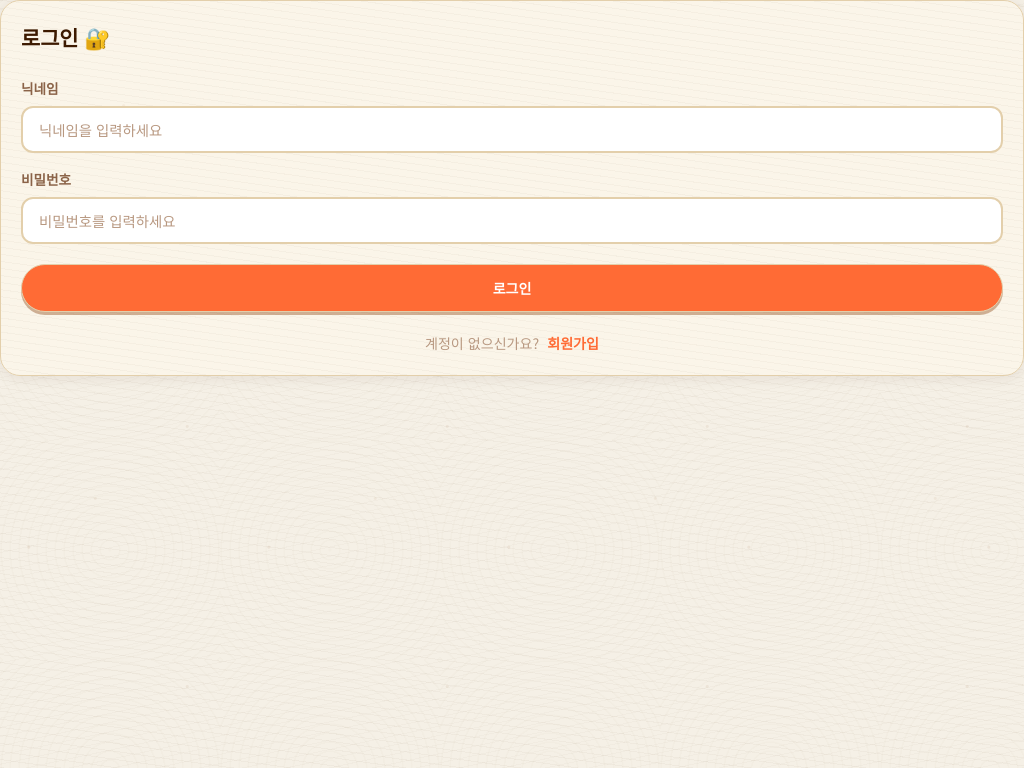
it: 로그인 페이지 › 로그인 중에는 버튼이 '로그인 중...' 상태가 된다
Type "testuser" into the field with placeholder "닉네임을 입력하세요" at (512, 130), box x1=21 y1=106 x2=1003 y2=153
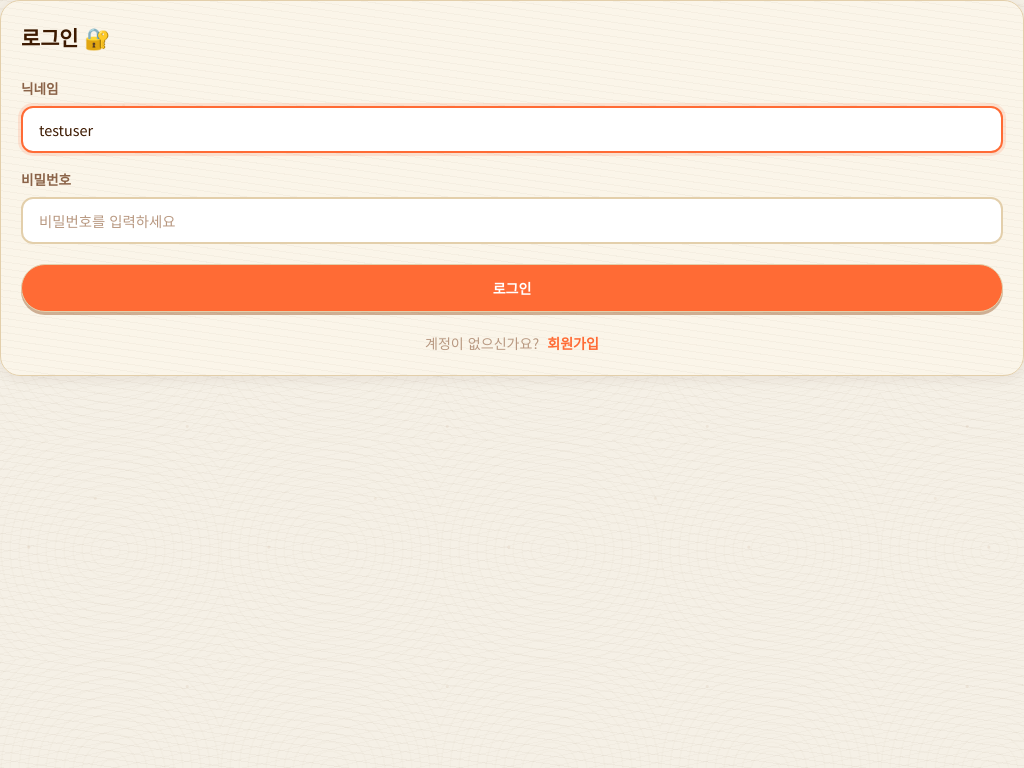
Type "password123" into the password field with placeholder "비밀번호를 입력하세요" at (512, 220), box x1=21 y1=197 x2=1003 y2=244
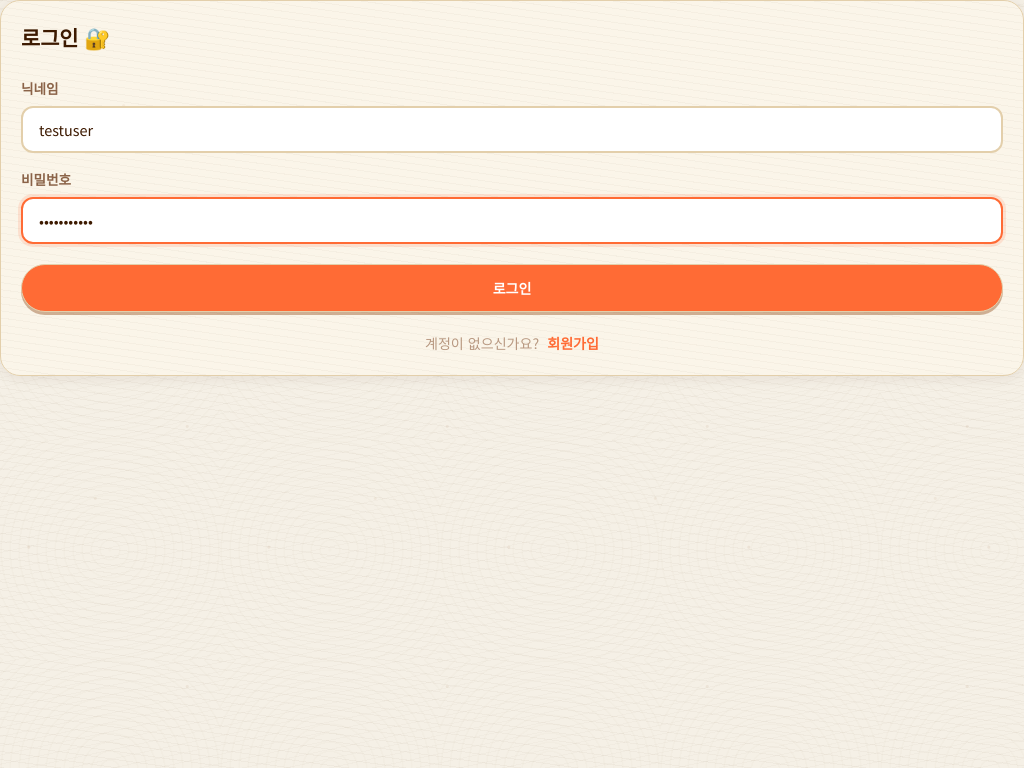
Click the button "로그인" at (512, 288), box x1=21 y1=264 x2=1003 y2=312
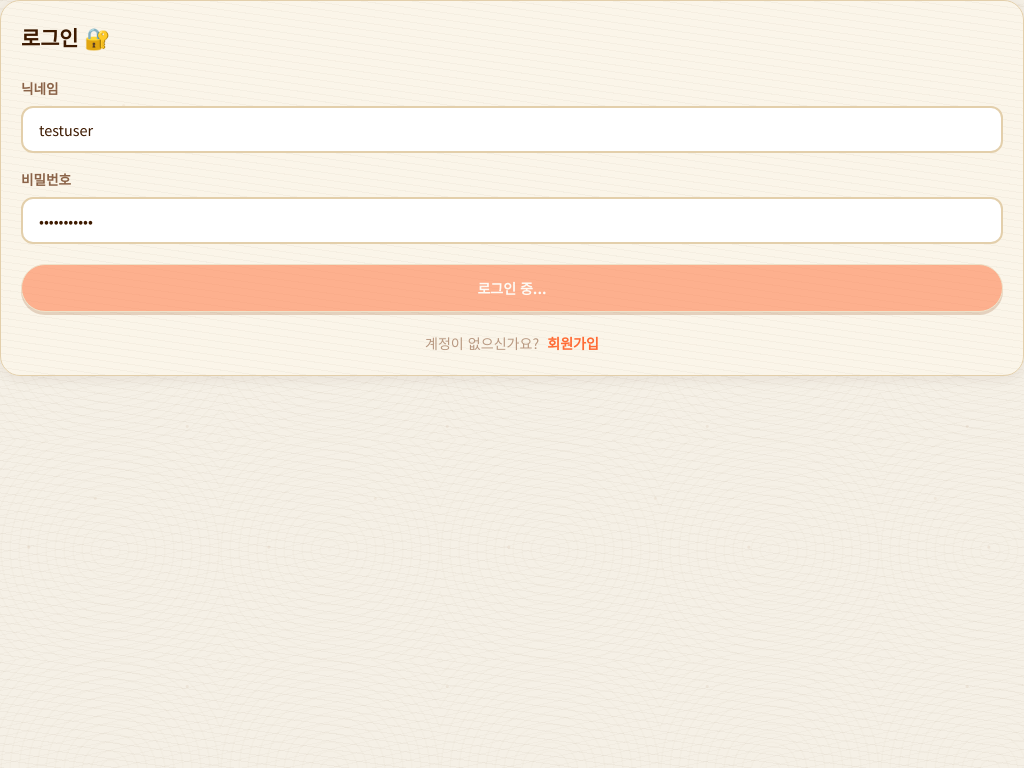
Now the button "로그인 중..." is disabled, box x1=21 y1=264 x2=1003 y2=312
